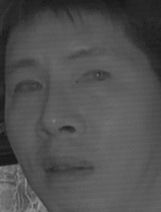eye: (74, 67, 116, 87), (11, 77, 45, 99)
mouth: (38, 154, 97, 186)
